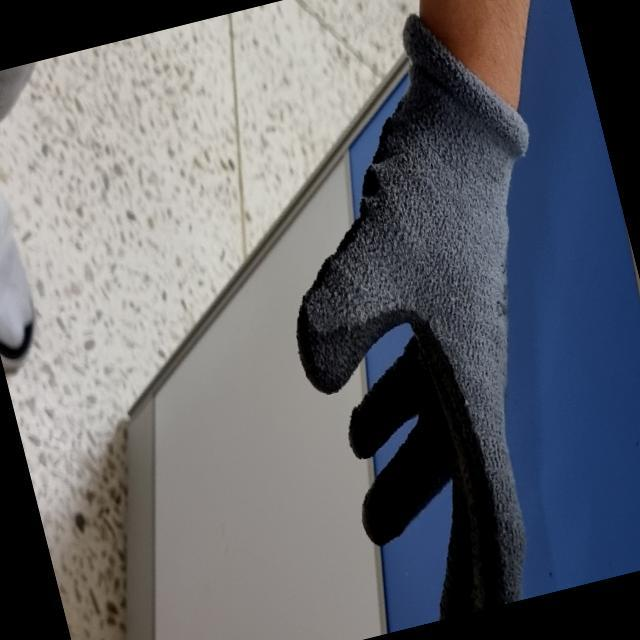Gloves: (296, 9, 539, 640)
